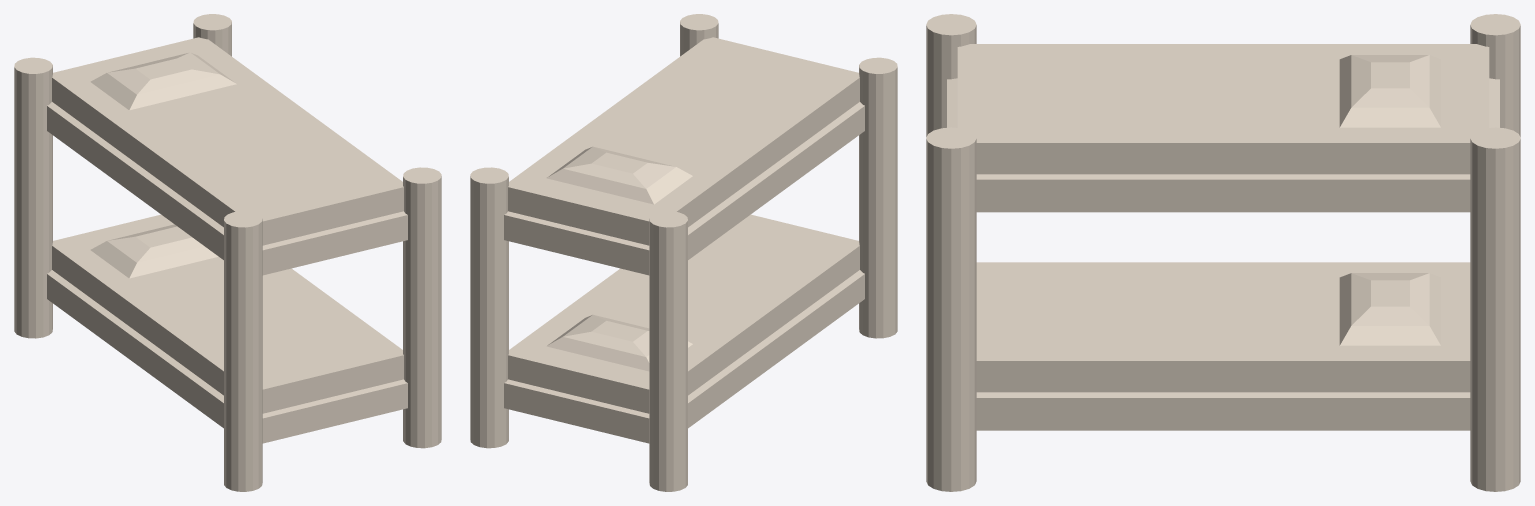
The model's file is Beds.fbx.
3 views of the same model, side by side, from view 1: azimuth 30°, elevation 25°; view 2: azimuth 150°, elevation 25°; view 3: azimuth 270°, elevation 25° (orthographic). The views are drawn at different scales.
Parts seen in each view (by area): view 1: Beds; view 2: Beds; view 3: Beds.
Part boxes in pixels (x1,y1,x2,y2): Beds: (14,14,441,491); Beds: (470,14,897,491); Beds: (926,14,1520,491).
Bounding box in the file's own units: 249 × 301 × 464.
